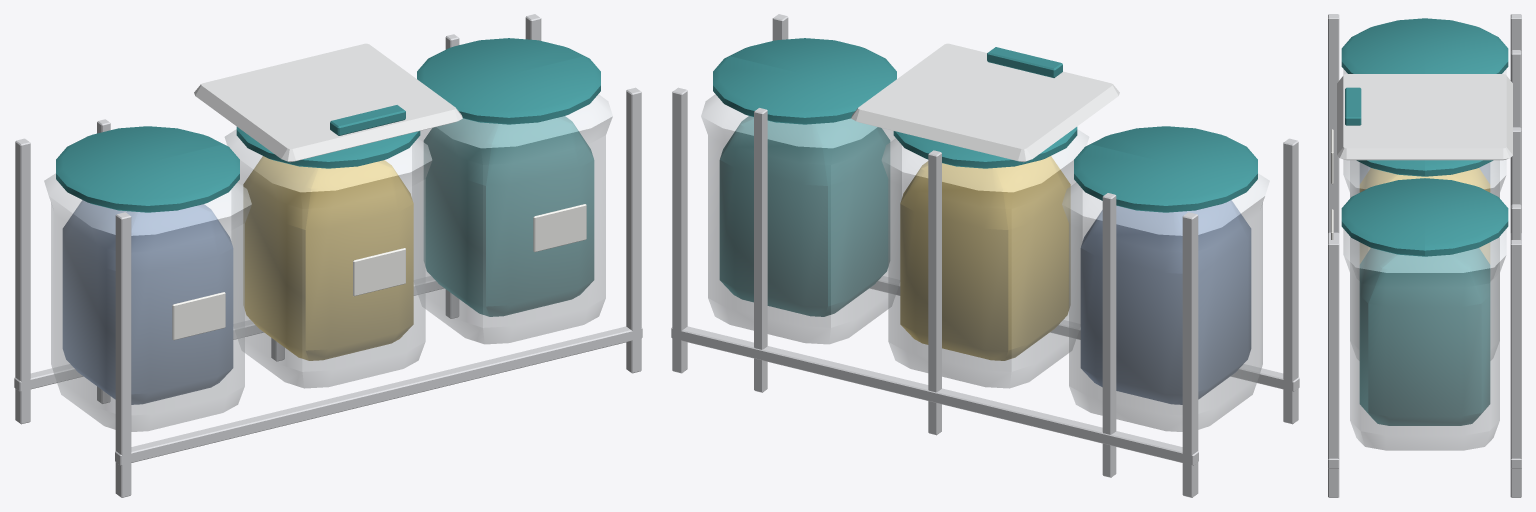
File: dry-cleaners-and-alterations-shop-sorting-bin-bank-137bf086__34959.glb
The picture shows the model from 3 angles, left to right: view 1: azimuth 30°, elevation 25°; view 2: azimuth 150°, elevation 25°; view 3: azimuth 270°, elevation 25°; orthographic projection. The views are drawn at different scales.
Parts seen in each view (by area): view 1: sorting-bin-bank, bin-lid/panel, bin-lid/accent; view 2: sorting-bin-bank, bin-lid/panel, bin-lid/accent; view 3: sorting-bin-bank, bin-lid/panel, bin-lid/accent.
Part boxes in pixels (box(x1,y1,x2,y2)): sorting-bin-bank: box(14, 14, 642, 497); bin-lid/panel: box(194, 43, 462, 162); bin-lid/accent: box(330, 105, 405, 135); sorting-bin-bank: box(671, 14, 1299, 497); bin-lid/panel: box(851, 43, 1119, 162); bin-lid/accent: box(987, 47, 1062, 77); sorting-bin-bank: box(1328, 14, 1521, 497); bin-lid/panel: box(1337, 74, 1512, 160); bin-lid/accent: box(1345, 87, 1361, 125).
Bounding box in the file's own units: 1.68 × 0.95 × 0.594.
